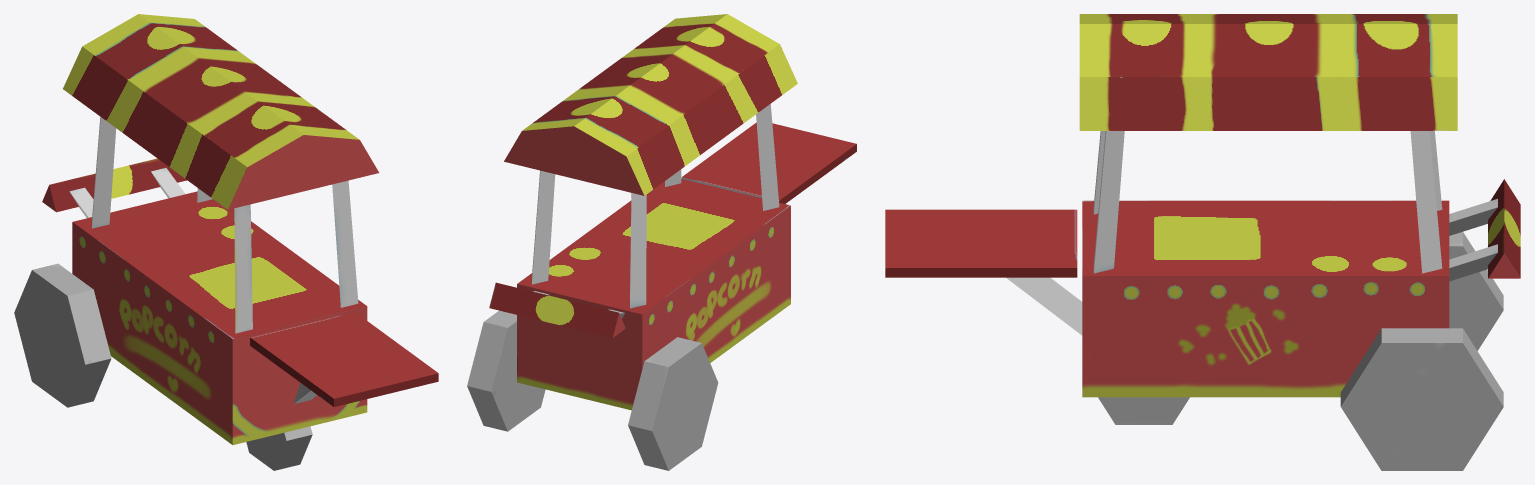
Rendered from Vending Cart (Popcorn).fbx.
3 views of the same model, side by side, from view 1: azimuth 30°, elevation 25°; view 2: azimuth 150°, elevation 25°; view 3: azimuth 270°, elevation 25° (orthographic). The views are drawn at different scales.
Visible parts, largest first — view 1: Cylinder.006; view 2: Cylinder.006; view 3: Cylinder.006.
Boxes of the visible parts, <box> form: Cylinder.006: <box>14,14,438,470</box>; Cylinder.006: <box>467,14,856,470</box>; Cylinder.006: <box>885,14,1520,470</box>.
Bounding box in the file's own units: 282 × 465 × 679.
